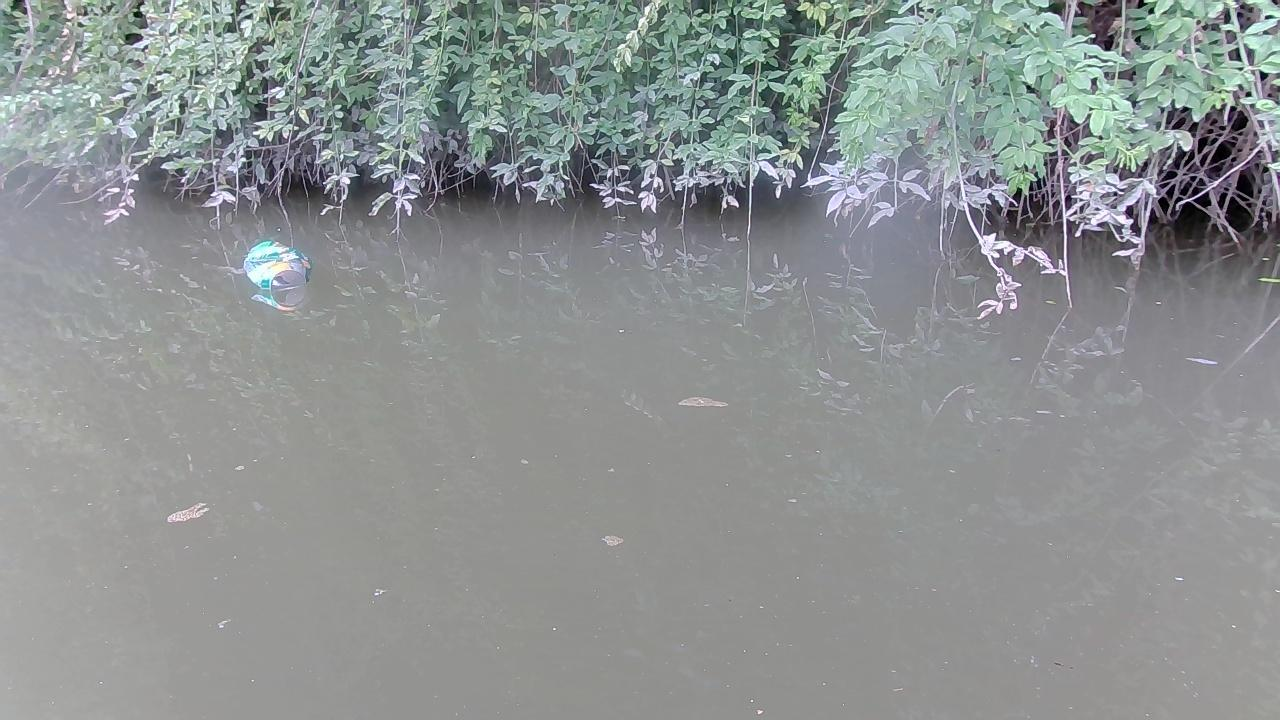bottle: (234, 237, 312, 303)
